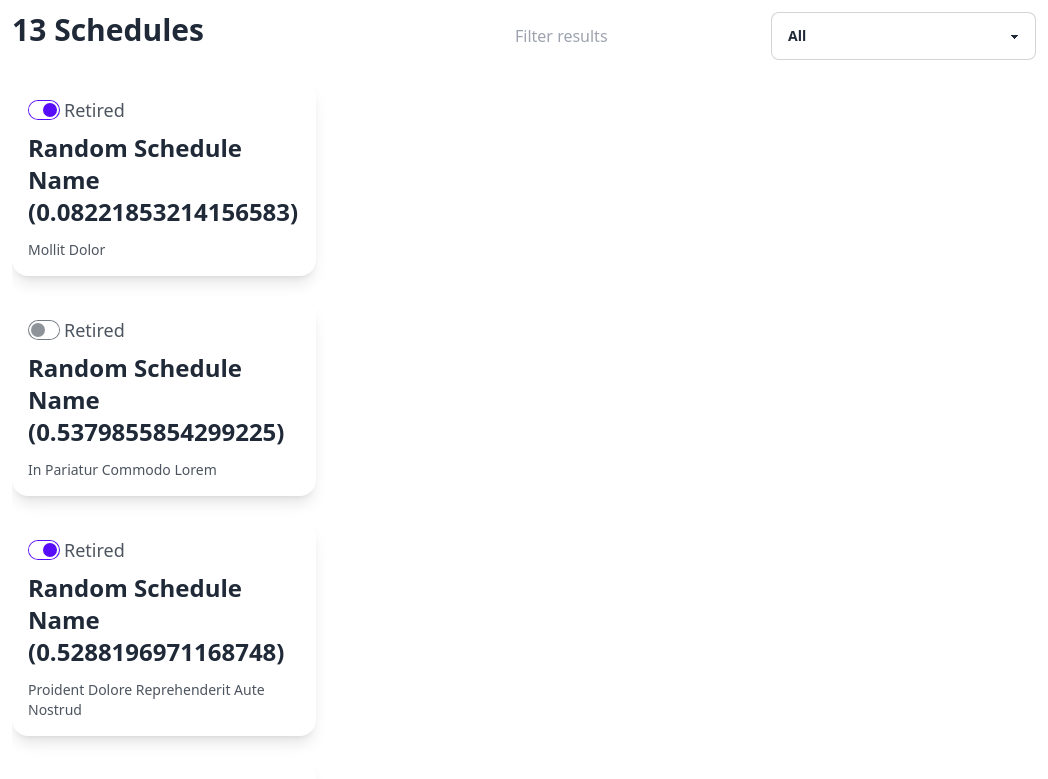
Test: Card Grid Component › filters by Retired status
Select "Retired" in the dropdown at (904,36), box [771,12,1036,60]
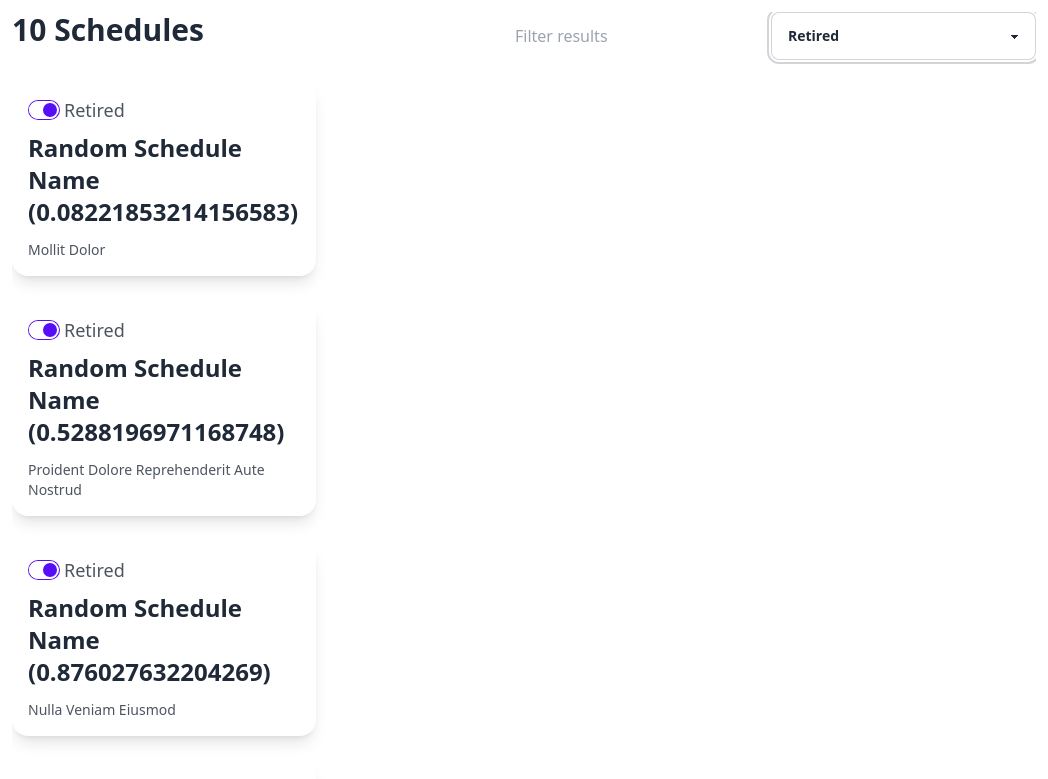
Check: the number of checkboxes is 10
